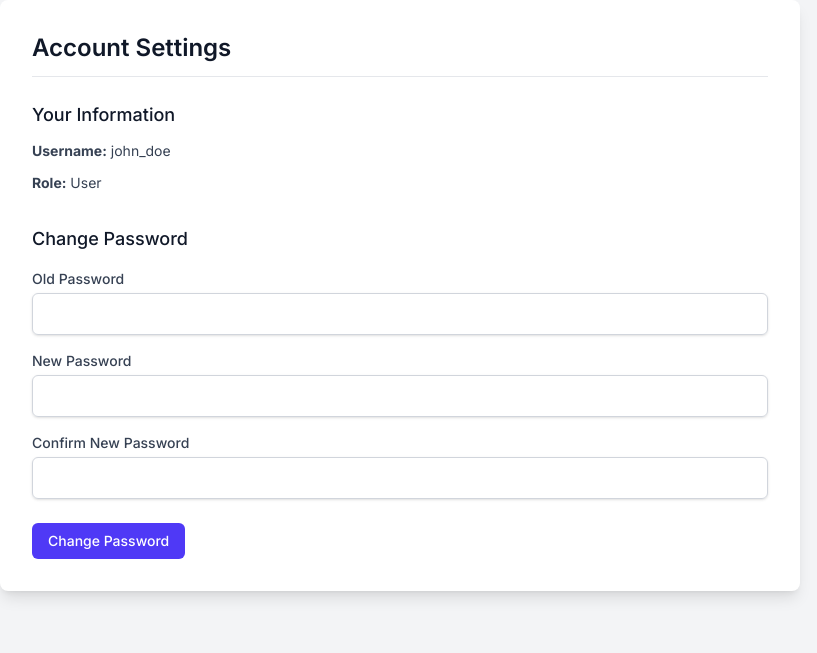
Scenario: Account & Auth Pages Suite › AccountPage › submits password change and displays success message on success
Type "oldPass123!" into the password field labelled "Old Password" at coordinates (400, 314), box [32,293,768,335]
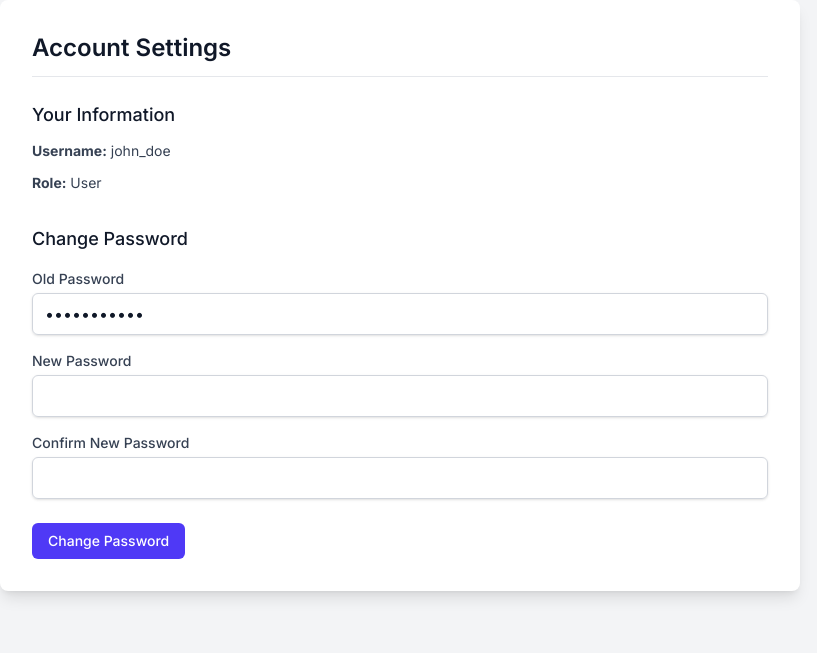
Type "NewPass123!" into the password field labelled "New Password" at coordinates (400, 396), box [32,375,768,417]
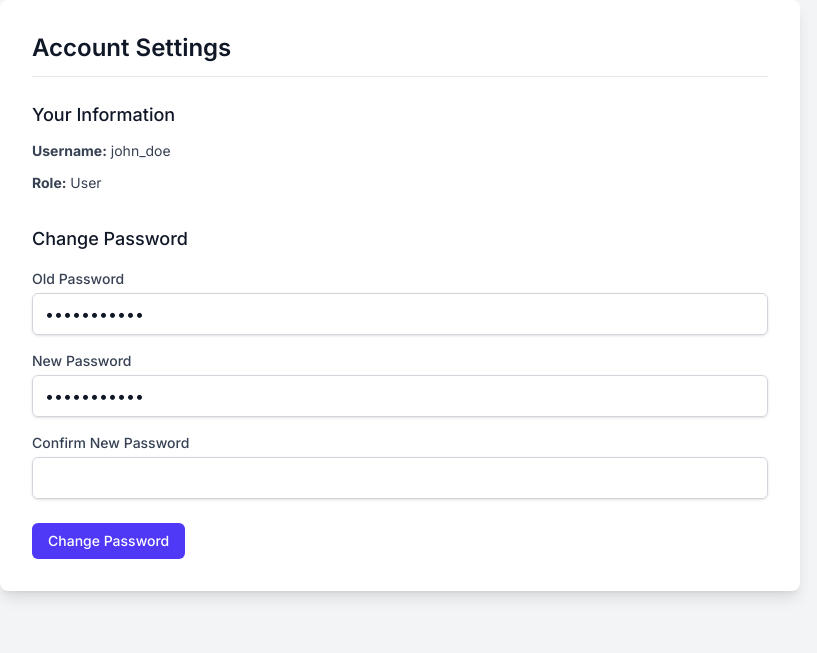
Type "NewPass123!" into the password field labelled "Confirm New Password" at coordinates (400, 478), box [32,457,768,499]
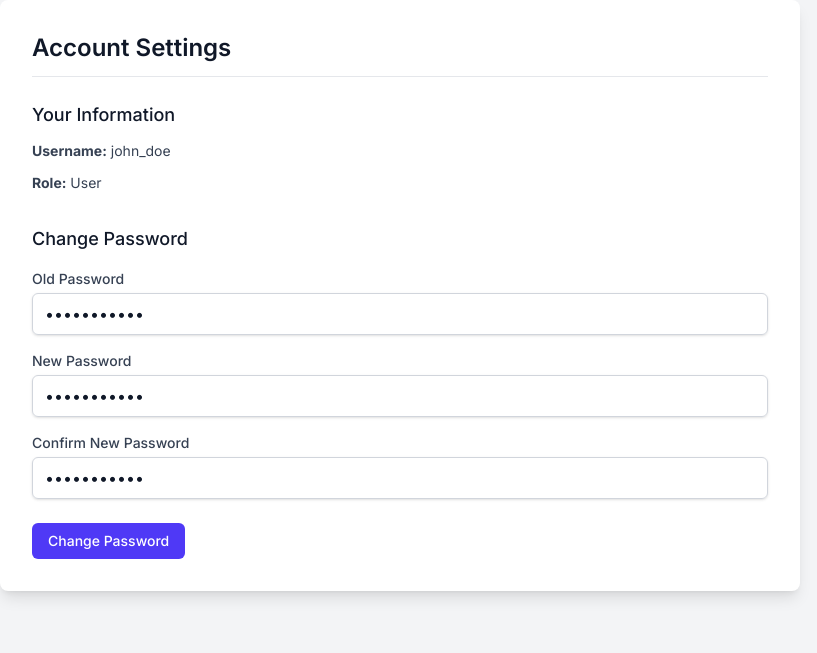
Click the button "Change Password" at coordinates (109, 541), box [32,523,185,559]
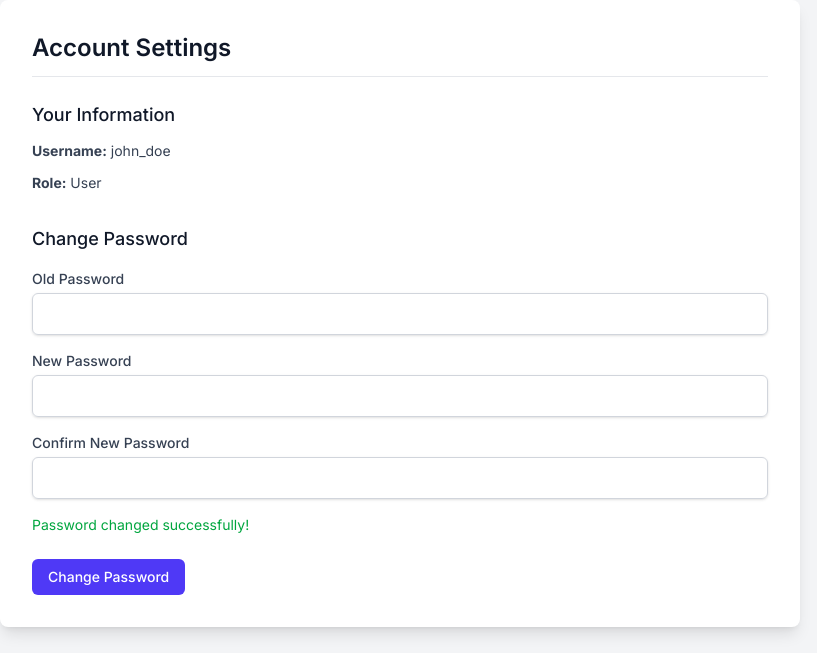
Expected: the text "Password changed successfully!" is shown, [32,516,249,533]
